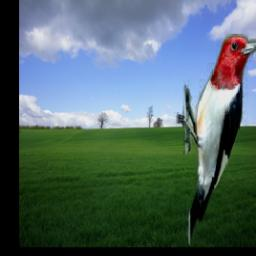Woodpecker: (174, 35, 256, 246)
